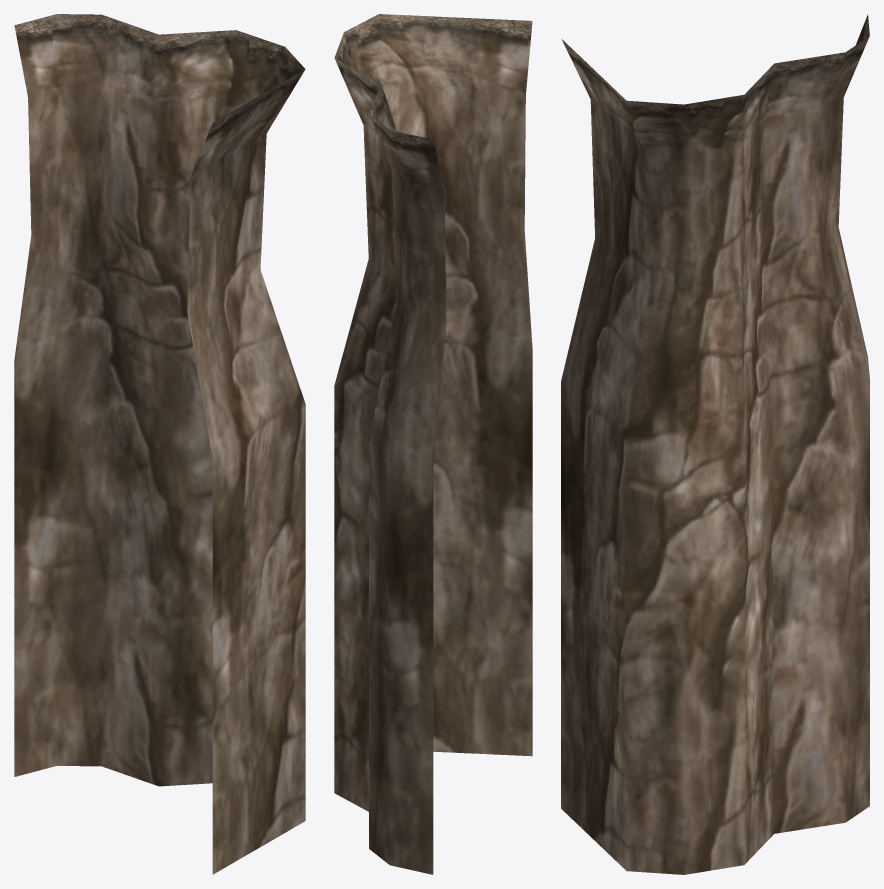
The model's file is OVERHILL_A_01_LINE06.fbx.
3 views of the same model, side by side, from view 1: azimuth 30°, elevation 25°; view 2: azimuth 150°, elevation 25°; view 3: azimuth 270°, elevation 25° (orthographic). The views are drawn at different scales.
Parts seen in each view (by area): view 1: OVERHILL_A_01_LINE06; view 2: OVERHILL_A_01_LINE06; view 3: OVERHILL_A_01_LINE06.
Part boxes in pixels (bbox=[...]): OVERHILL_A_01_LINE06: bbox=[14, 14, 305, 874]; OVERHILL_A_01_LINE06: bbox=[334, 14, 532, 874]; OVERHILL_A_01_LINE06: bbox=[561, 14, 869, 874].
Size of the model in its own units: 17707 by 70250 by 25524.
Materials: 2 (2 with a texture image).
